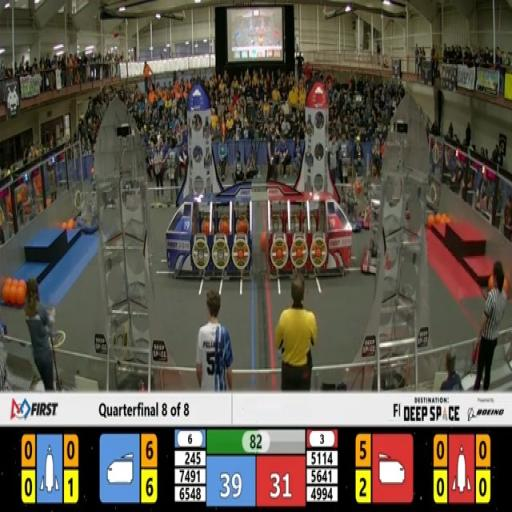robot: (361, 200, 397, 279), (328, 152, 360, 230), (348, 172, 375, 229), (77, 187, 100, 235), (0, 293, 11, 342)
